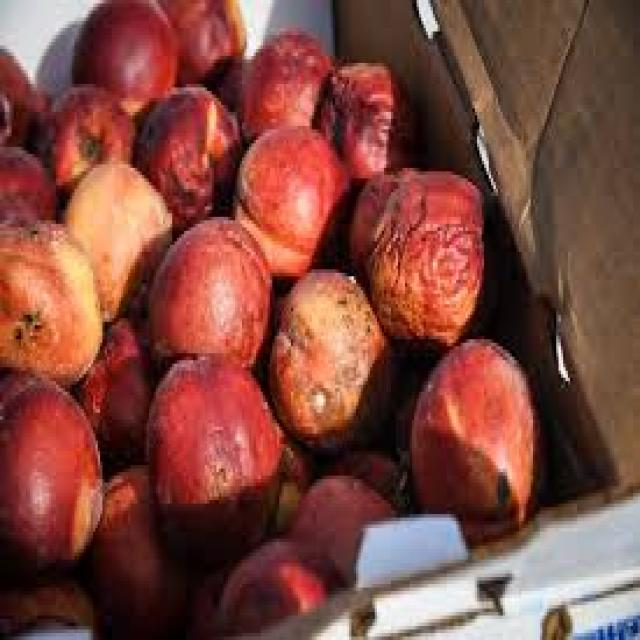Organik: (0, 2, 547, 640), (3, 0, 510, 349), (355, 155, 500, 345)
